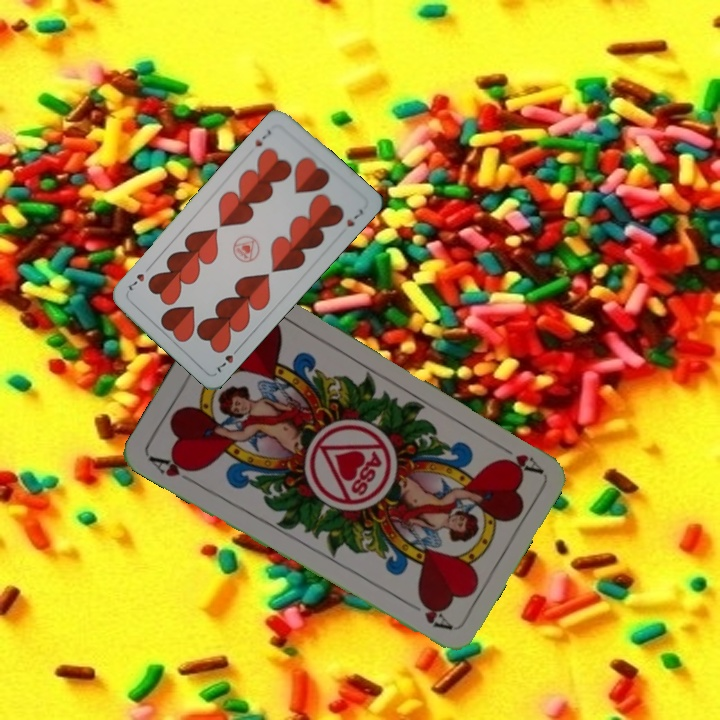H7: (213, 342, 243, 375), (251, 125, 274, 149)
HA: (490, 438, 544, 476), (145, 451, 200, 487)
